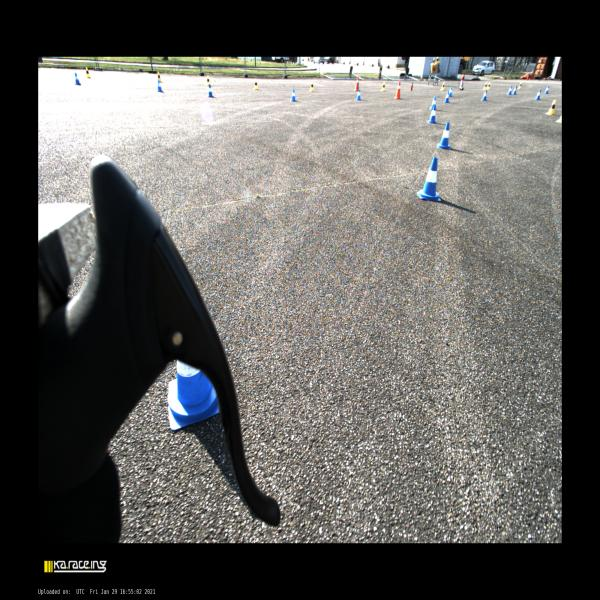blue_cone: (168, 361, 219, 430), (417, 157, 441, 201), (437, 122, 452, 150), (427, 104, 438, 124), (157, 79, 165, 93), (208, 84, 216, 98), (429, 96, 437, 110), (74, 72, 81, 86), (291, 88, 298, 102), (443, 91, 450, 103), (356, 88, 362, 101), (481, 90, 488, 101), (534, 89, 541, 100), (506, 85, 512, 95), (449, 86, 453, 97), (544, 86, 549, 94), (512, 85, 516, 94)
large_orange_cone: (394, 80, 401, 99), (354, 76, 359, 91)
yellow_cone: (545, 100, 556, 115), (85, 67, 91, 79), (158, 71, 164, 83), (309, 82, 315, 92), (253, 80, 259, 90), (555, 115, 562, 123), (380, 82, 386, 91), (440, 82, 445, 91), (207, 75, 210, 86), (518, 81, 522, 89), (483, 82, 487, 90), (487, 82, 490, 90), (432, 57, 435, 64), (436, 57, 439, 62), (436, 58, 438, 64)
